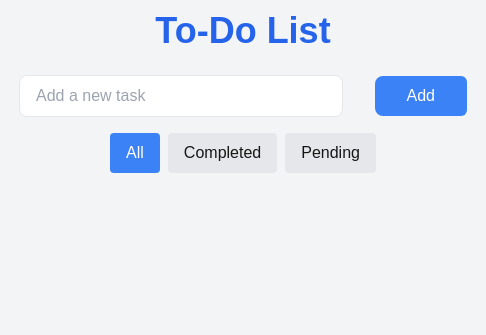
it: ToDoList Component › should filter completed and pending to-dos
Step 1. Type "Task 1" into the field with placeholder "Add a new task" → x=181, y=96, box x1=19 y1=75 x2=342 y2=117
Step 2. Click the button "Add" → x=421, y=96, box x1=374 y1=76 x2=467 y2=116
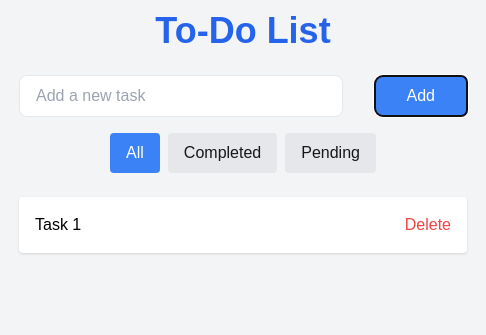
Step 3. Type "Task 2" into the field with placeholder "Add a new task" → x=181, y=96, box x1=19 y1=75 x2=342 y2=117
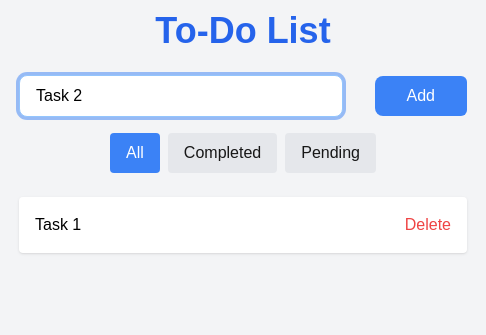
Step 4. Click the button "Add" → x=421, y=96, box x1=374 y1=76 x2=467 y2=116
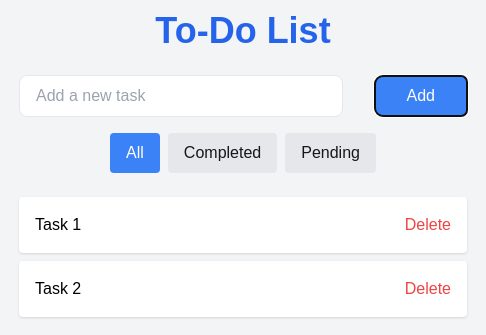
Step 5. Click the text "Task 1" → x=58, y=224, box x1=35 y1=216 x2=81 y2=233
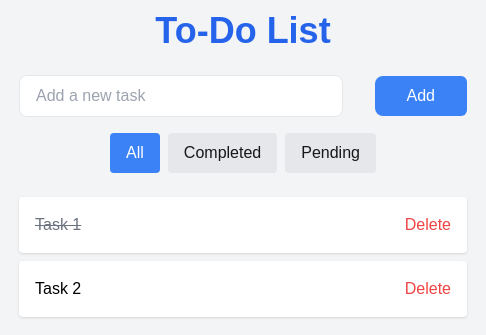
Step 6. Click the button "Completed" → x=222, y=153, box x1=168 y1=133 x2=277 y2=173
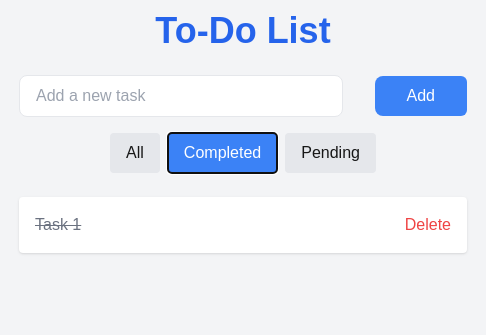
Expected: the text "Task 1" is shown, x1=35 y1=216 x2=81 y2=233
Expected: the text "Task 2" is gone
Step 7. Click the button "Pending" → x=331, y=153, box x1=285 y1=133 x2=376 y2=173
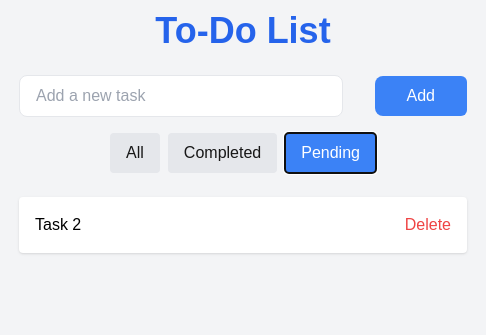
Expected: the text "Task 2" is shown, x1=35 y1=216 x2=81 y2=233
Expected: the text "Task 1" is gone
